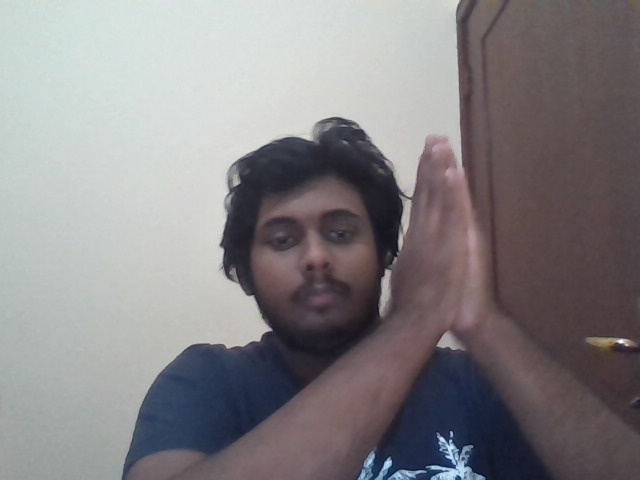namaste: (390, 132, 491, 329)
